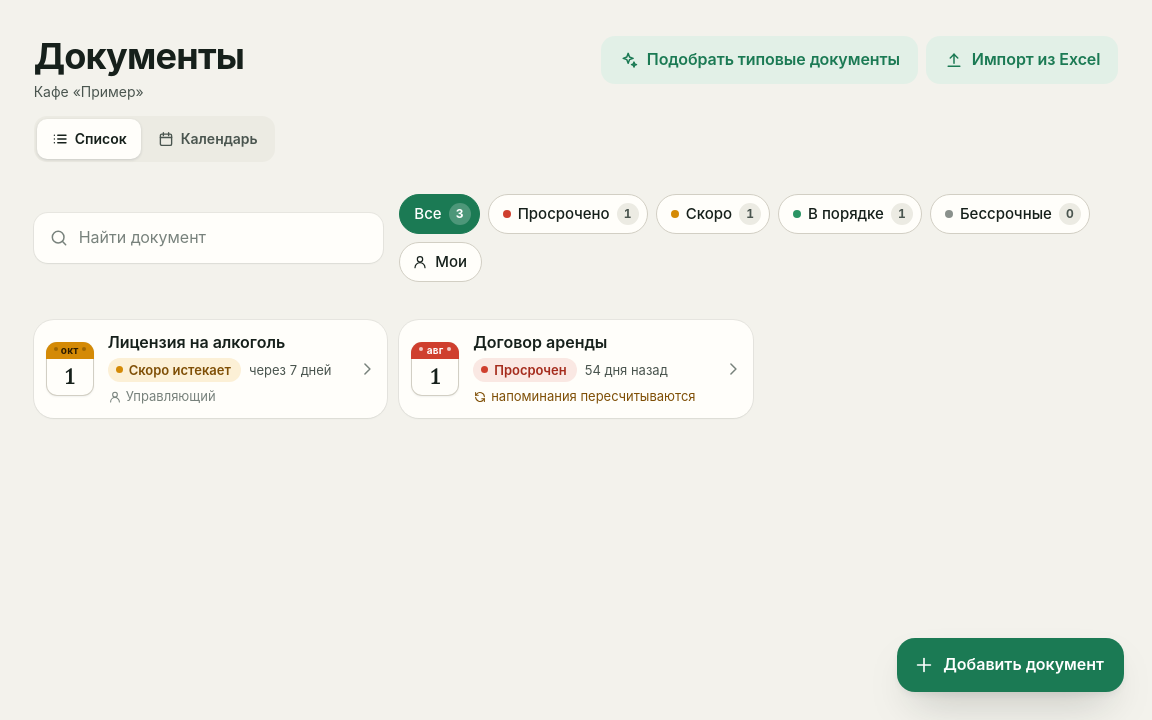
Test: T-FE-PAGE, T-FE-STATE: реестр документов › фильтрует реестр по статусу через запрос к API
The image size is (1152, 720).
Expected: the text "Лицензия на алкоголь" is shown, [108,332,285,352]
Step 1. Click the button "Просрочено 1" → (568, 214), box [488,194,648,234]
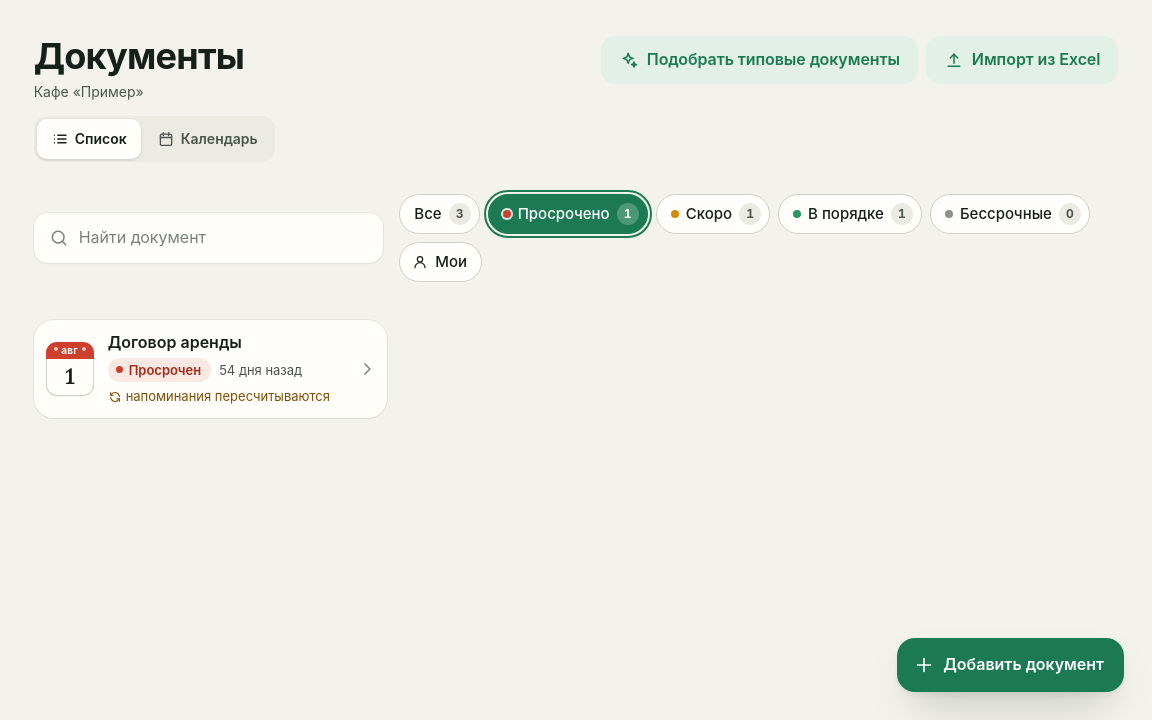
Expected: the text "Договор аренды" is shown, [108,332,242,352]
Expected: the button "Лицензия на алкоголь" is gone
